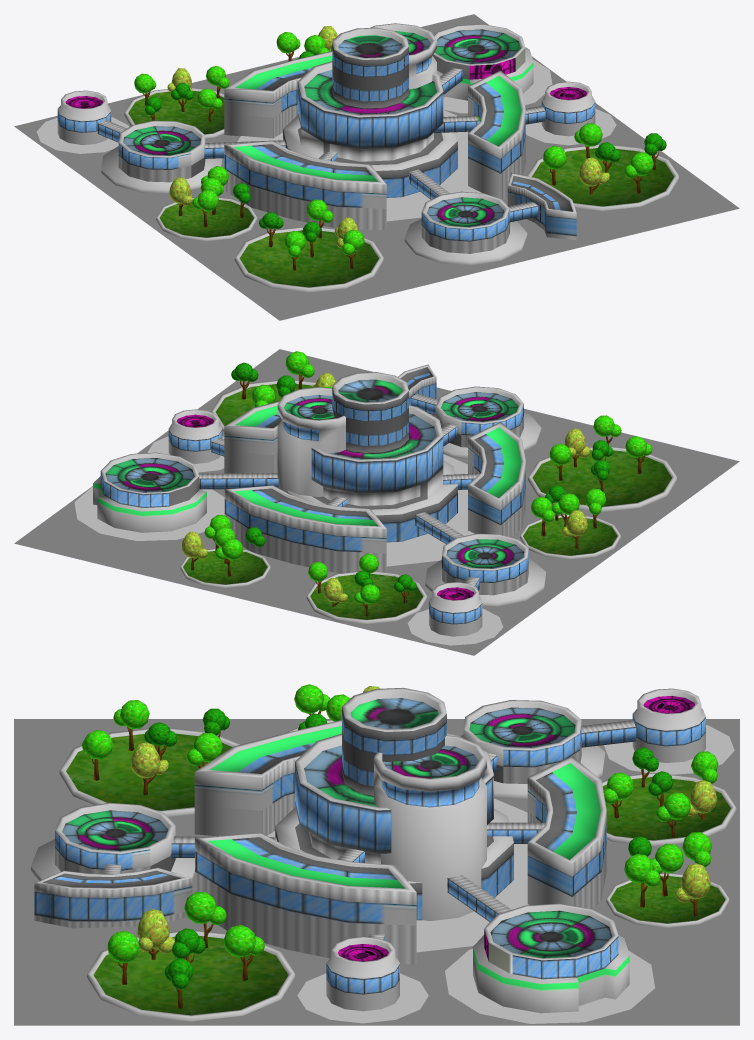
Rendered from appdeveloper_LV3.fbx.
3 views of the same model, one above another, from view 1: azimuth 30°, elevation 25°; view 2: azimuth 150°, elevation 25°; view 3: azimuth 270°, elevation 25° (orthographic). The views are drawn at different scales.
Parts seen in each view (by area): view 1: app developer lv 3; view 2: app developer lv 3; view 3: app developer lv 3.
Part boxes in pixels (<box>): app developer lv 3: <box>14,14,739,320</box>; app developer lv 3: <box>14,349,739,655</box>; app developer lv 3: <box>14,684,739,1025</box>.
Size of the model in its own units: 180 by 47.09 by 180.
